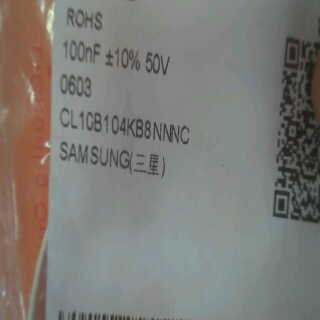100nF: (60, 32, 103, 73)
